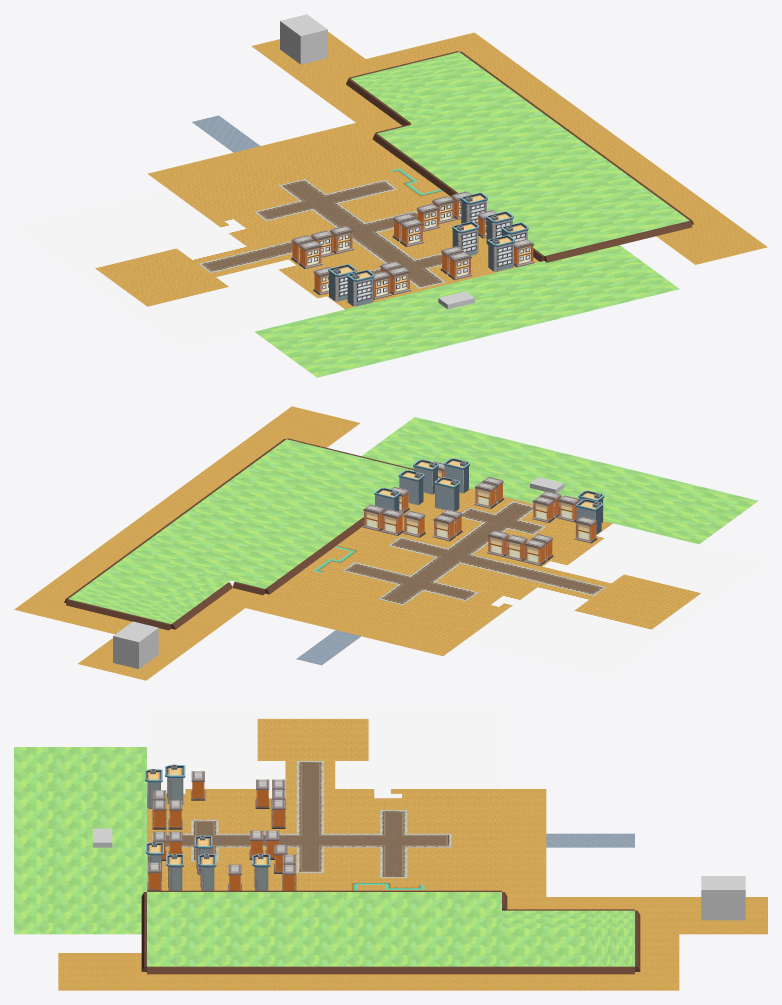
File: map.glb
3 views of the same model, one above another, from view 1: azimuth 30°, elevation 25°; view 2: azimuth 150°, elevation 25°; view 3: azimuth 270°, elevation 25° (orthographic). The views are drawn at different scales.
Parts seen in each view (by area): view 1: Plane.010, Plane.003, Plane.046, Plane.047, Plane.002, Plane.015, Plane.019, Plane.012, Plane.014, Plane.007, Plane.049, Plane.026 (+30 smaller); view 2: Plane.010, Plane.007, Plane.019, Plane.014, Plane.015, Plane.046, Plane.047, Plane.012, Plane.003, Plane.002, Plane.032, Plane.004 (+33 smaller); view 3: Plane.010, Cube.047, Plane.014, Plane.046, Plane.007, Plane.032, Plane.001, Plane.030, Plane.015, Plane.019, Plane.012, Plane.047 (+29 smaller).
Part boxes in pixels (x1,y1,x2,y2): Plane.010: (14, 139, 539, 349); Plane.003: (275, 329, 388, 377); Plane.046: (534, 159, 647, 207); Plane.047: (575, 190, 689, 238); Plane.002: (566, 258, 679, 306); Plane.015: (377, 115, 490, 163); Plane.019: (408, 67, 521, 115); Plane.012: (450, 98, 563, 146); Plane.014: (492, 128, 605, 176); Plane.007: (419, 146, 532, 192); Plane.049: (656, 216, 767, 264); Plane.026: (472, 261, 583, 308); Plane.010: (270, 488, 767, 677); Plane.007: (236, 514, 343, 559); Plane.019: (88, 555, 196, 601); Plane.014: (168, 497, 275, 542); Plane.015: (197, 543, 304, 588); Plane.046: (207, 468, 315, 513); Plane.047: (247, 439, 354, 484); Plane.012: (128, 526, 235, 571); Plane.003: (651, 484, 758, 529); Plane.002: (376, 417, 483, 462); Plane.032: (276, 485, 374, 530); Plane.004: (589, 467, 689, 512); Plane.010: (147, 709, 501, 890); Cube.047: (147, 966, 634, 974); Plane.014: (324, 929, 413, 966); Plane.046: (235, 929, 324, 966); Plane.007: (324, 892, 413, 929); Plane.032: (235, 892, 324, 929); Plane.001: (14, 859, 102, 896); Plane.030: (147, 892, 235, 929); Plane.015: (413, 892, 501, 929); Plane.019: (502, 929, 590, 966); Plane.012: (413, 929, 501, 966); Plane.047: (147, 929, 235, 966).
Bounding box in the file's own units: 120 × 6.13 × 136.
Materials: 19 (18 with a texture image).
